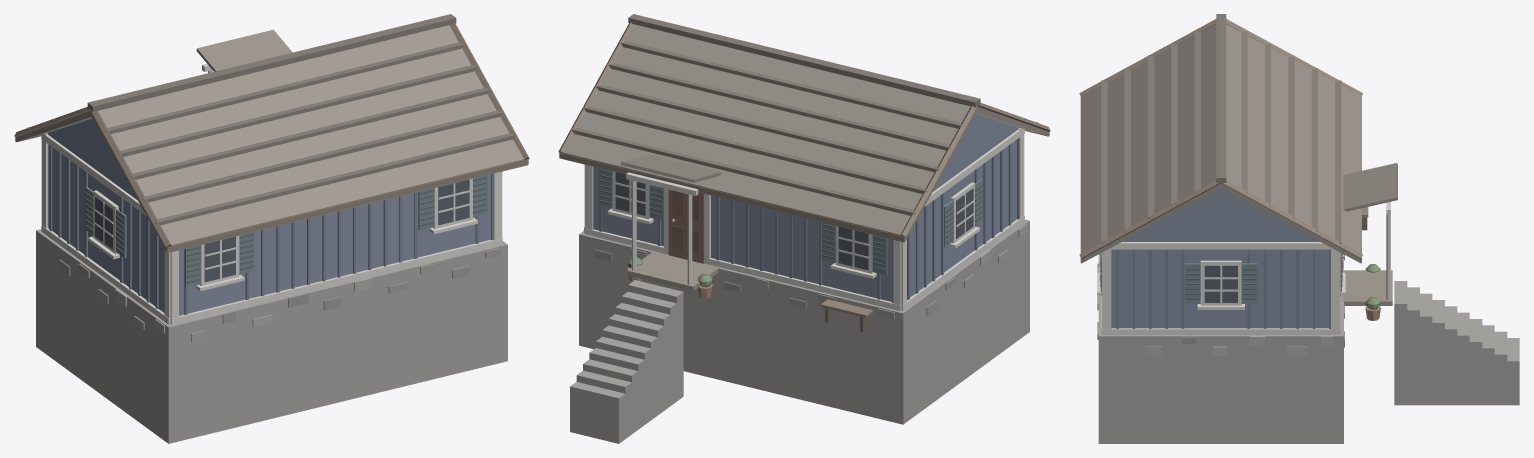
File: house_3_1.gltf
3 views of the same model, side by side, from view 1: azimuth 30°, elevation 25°; view 2: azimuth 150°, elevation 25°; view 3: azimuth 270°, elevation 25° (orthographic). The views are drawn at different scales.
Parts seen in each view (by area): view 1: Body; view 2: Body; view 3: Body.
Boxes of the visible parts, x1=… form: Body: x1=14, y1=14, x2=529, y2=443; Body: x1=558, y1=14, x2=1050, y2=443; Body: x1=1079, y1=14, x2=1519, y2=443.
Size of the model in its own units: 9.97 by 7.69 by 11.3.
